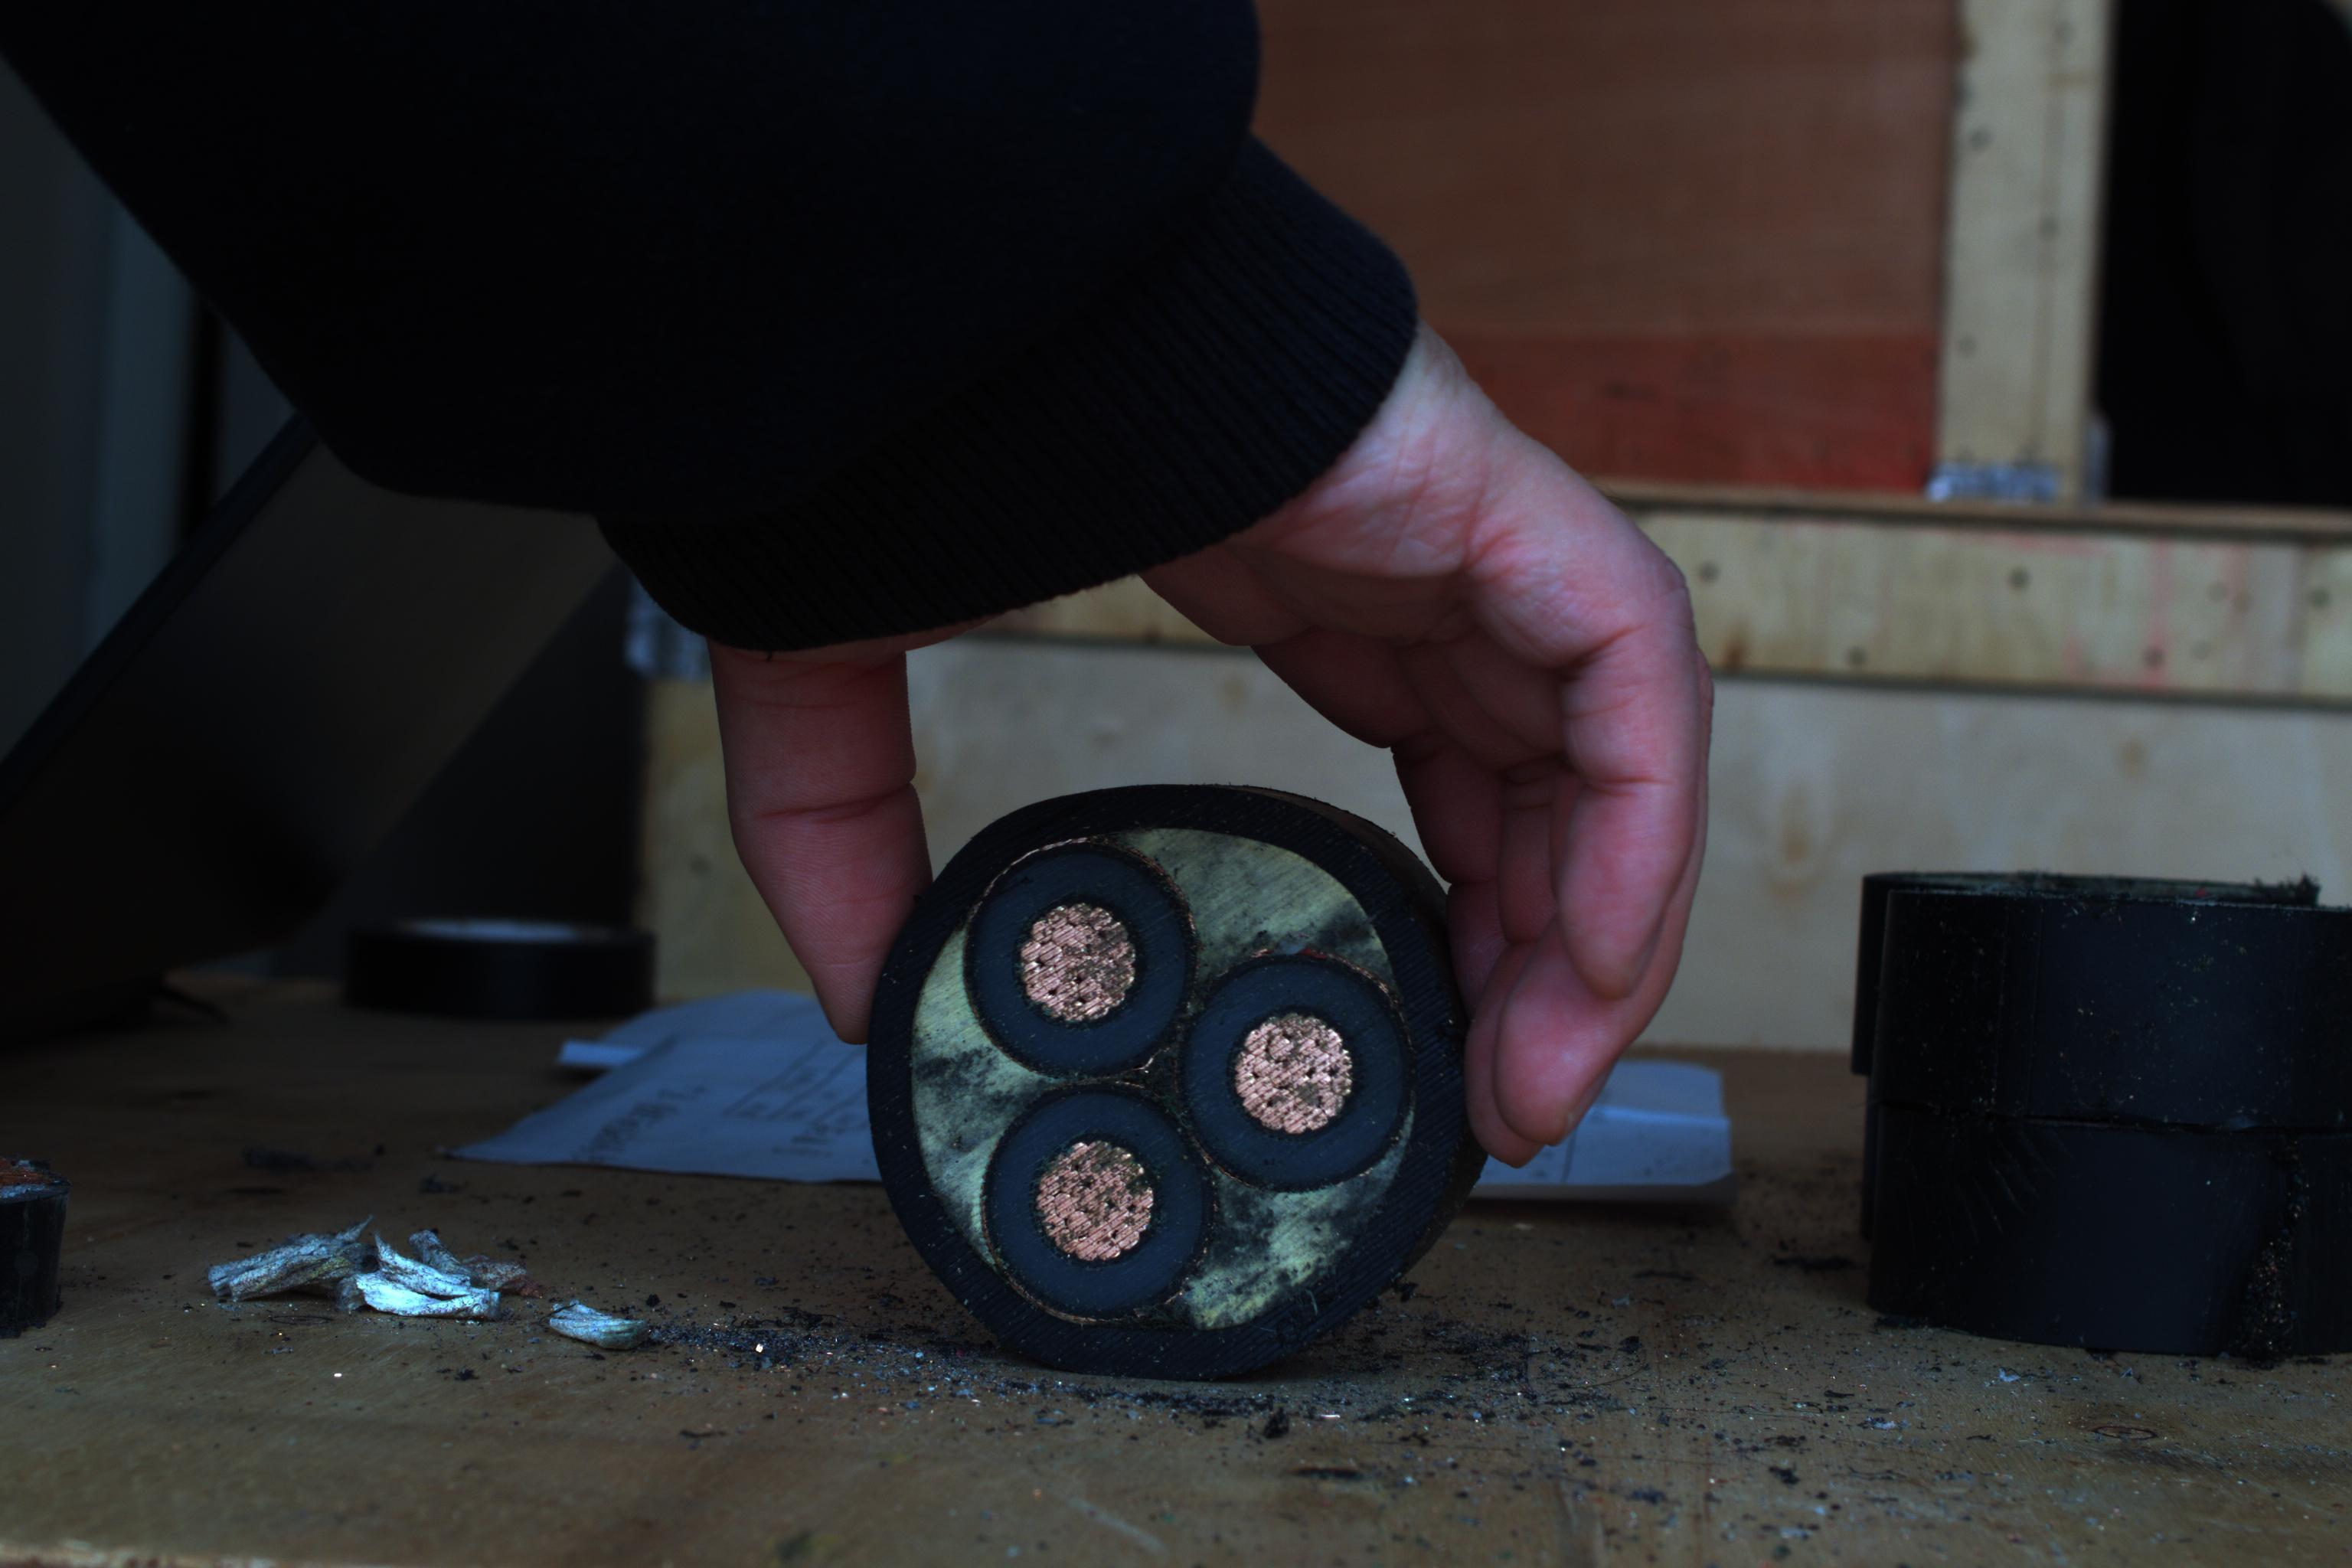ZA_YJV_8.7_10kV_3x120: (871, 784, 1489, 1353)
